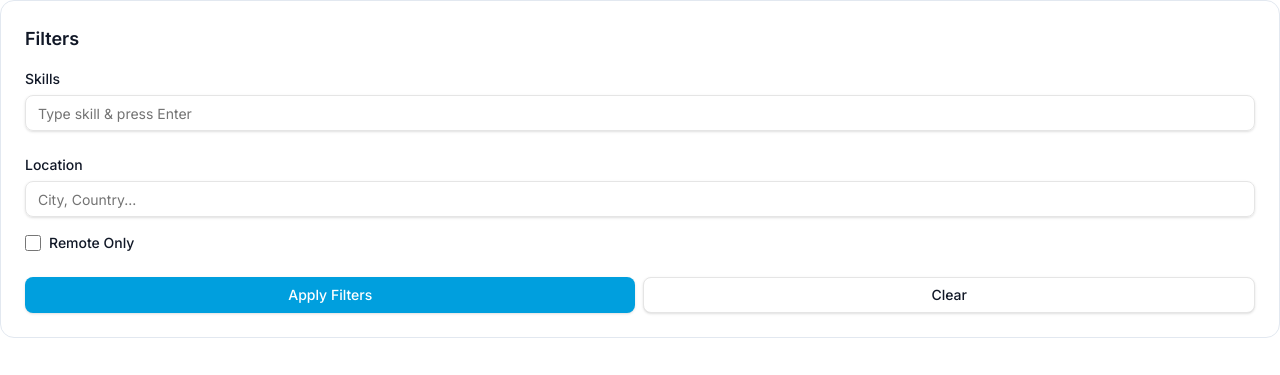
Test: JobFilters › adds skills when pressing Enter
Type "React" into the field with placeholder "Type skill & press Enter" at x=640, y=113, box top-left (25, 95), bottom-right (1255, 131)
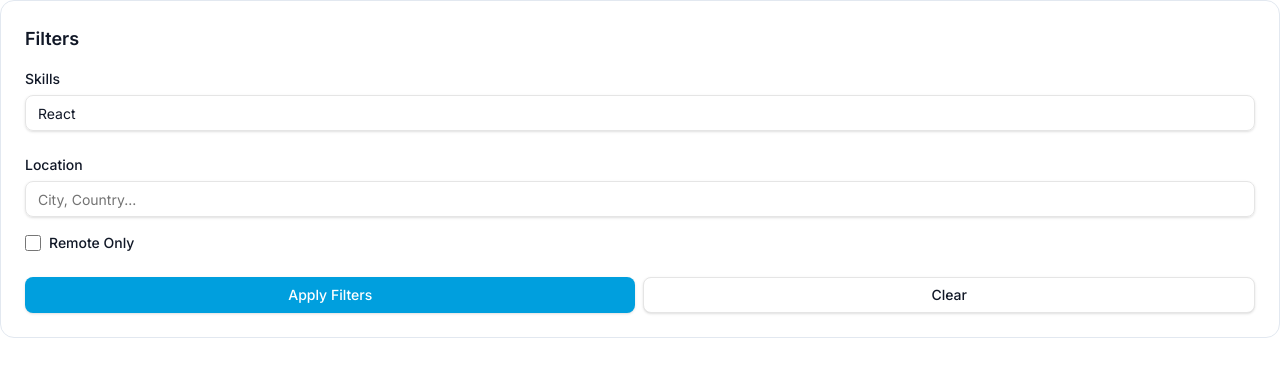
Press Enter in the field with placeholder "Type skill & press Enter", box top-left (25, 95), bottom-right (1255, 131)
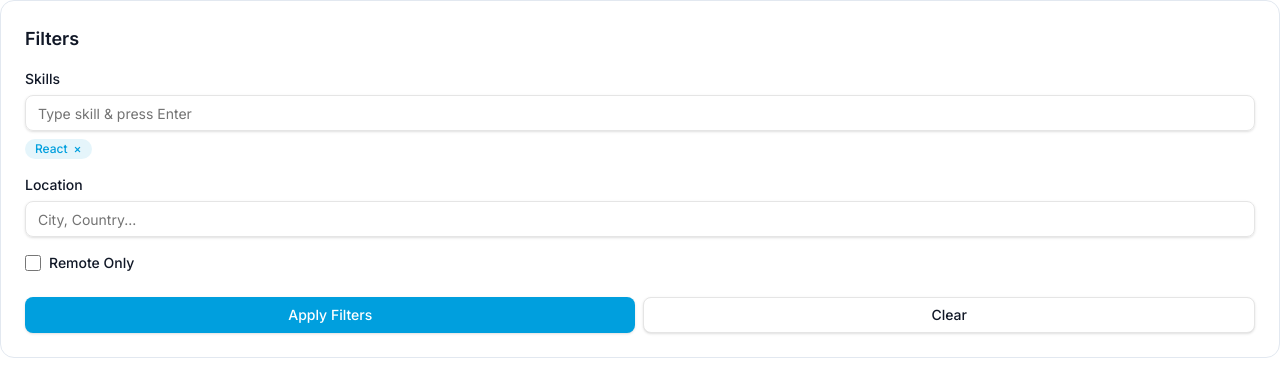
Expected: the text "React" is shown, top-left (35, 141), bottom-right (68, 156)
Expected: the field with placeholder "Type skill & press Enter" is empty, top-left (25, 95), bottom-right (1255, 131)
